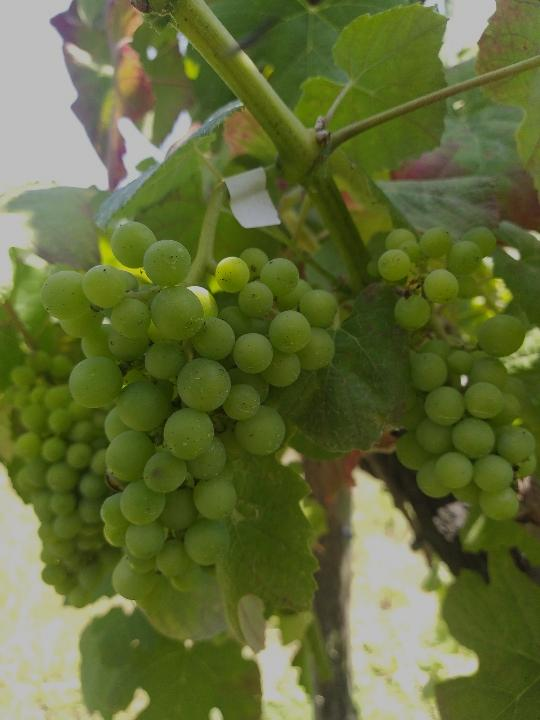grape: (41, 217, 341, 606)
